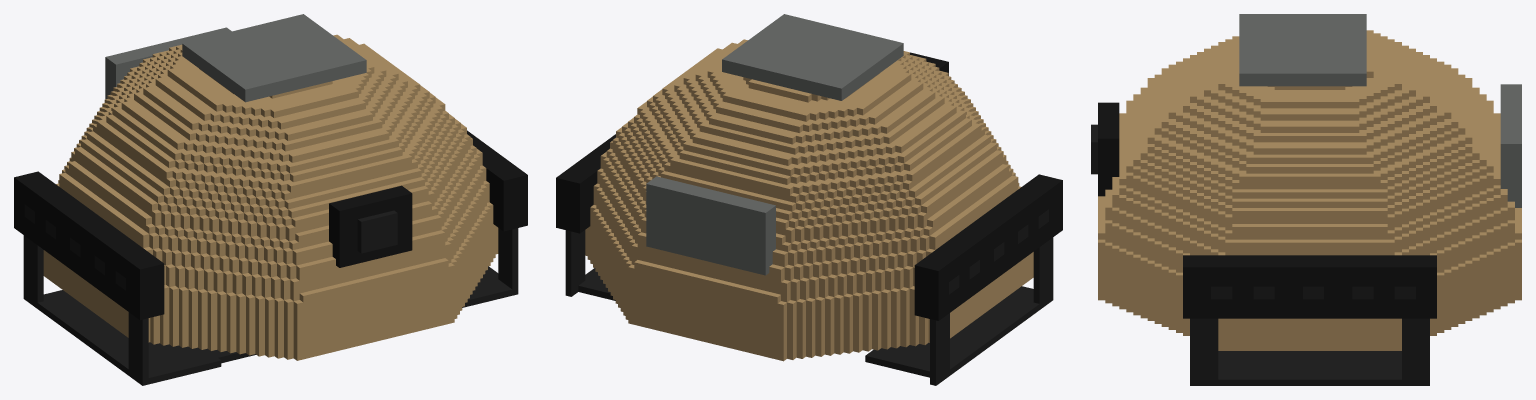
The model's file is airsoft_helmet.glb.
3 renders of one model, left to right at view 1: azimuth 30°, elevation 25°; view 2: azimuth 150°, elevation 25°; view 3: azimuth 270°, elevation 25°, orthographic. The views are drawn at different scales.
Visible parts, largest first — view 1: airsoft_helmet:compound; view 2: airsoft_helmet:compound; view 3: airsoft_helmet:compound.
Boxes of the visible parts, <box> form: airsoft_helmet:compound: <box>14,14,527,385</box>; airsoft_helmet:compound: <box>556,14,1062,385</box>; airsoft_helmet:compound: <box>1091,14,1521,385</box>.
Bounding box in the file's own units: 0.256 × 0.156 × 0.244.
